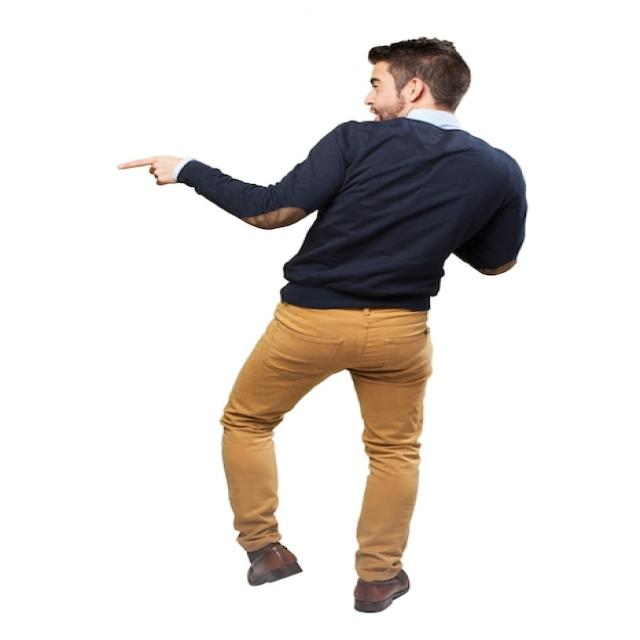Person: (117, 37, 527, 611)
